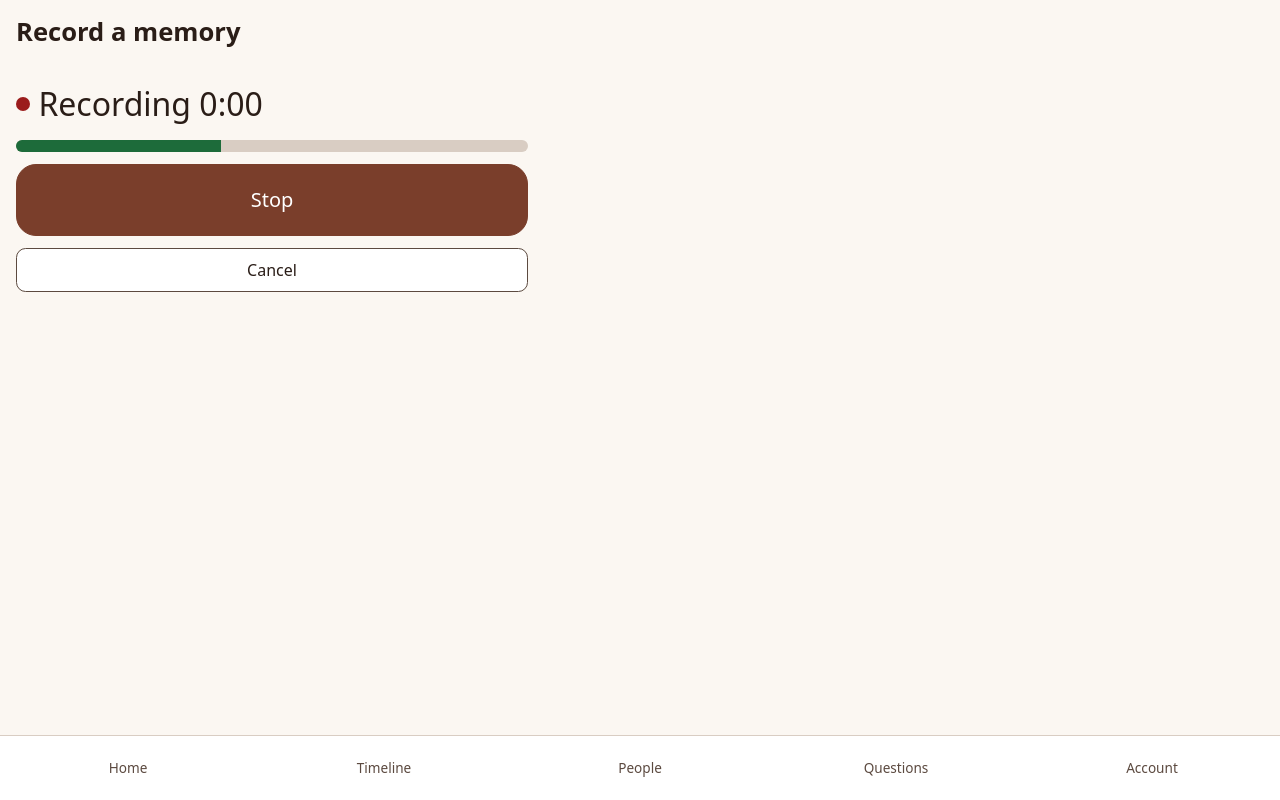
right after a silent take, the record screen offers to delete it
Click the button "Stop": (272, 200) [16,164,528,236]
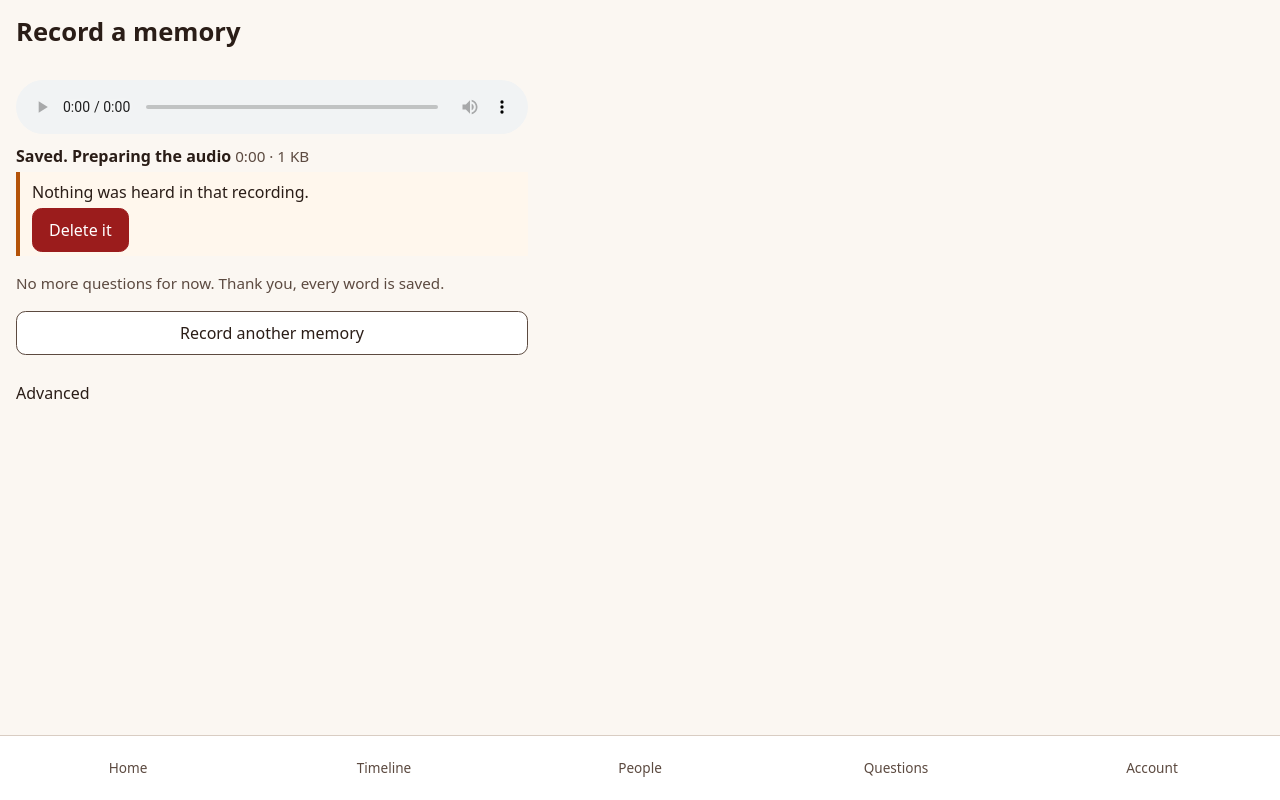
Expected: the text "Nothing was heard in that recording." is shown, [32,181,309,203]
Click the button "Delete it": (80, 230) [32,208,129,252]
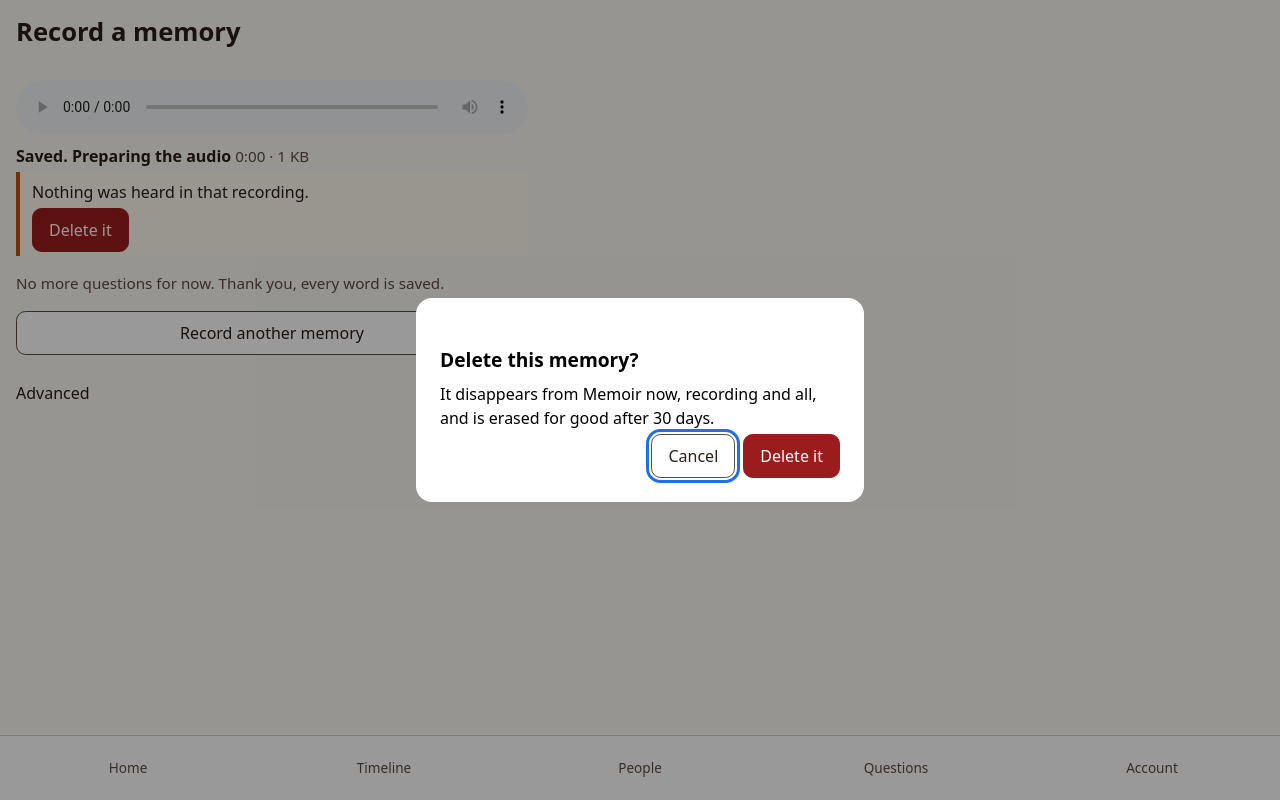
Click the button "Delete it" below "Delete this memory?": (792, 456) [743,434,840,478]
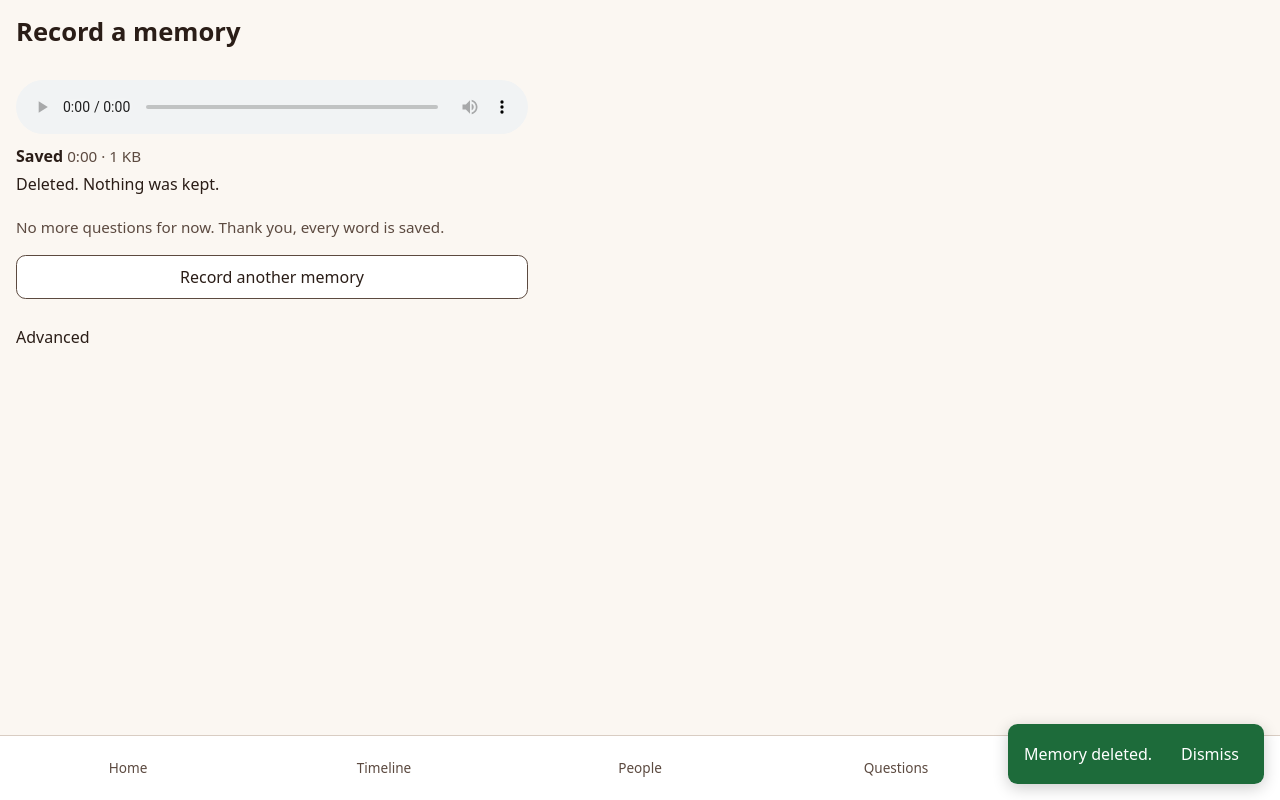
Expected: the text "Deleted. Nothing was kept." is shown, [16,173,219,195]
